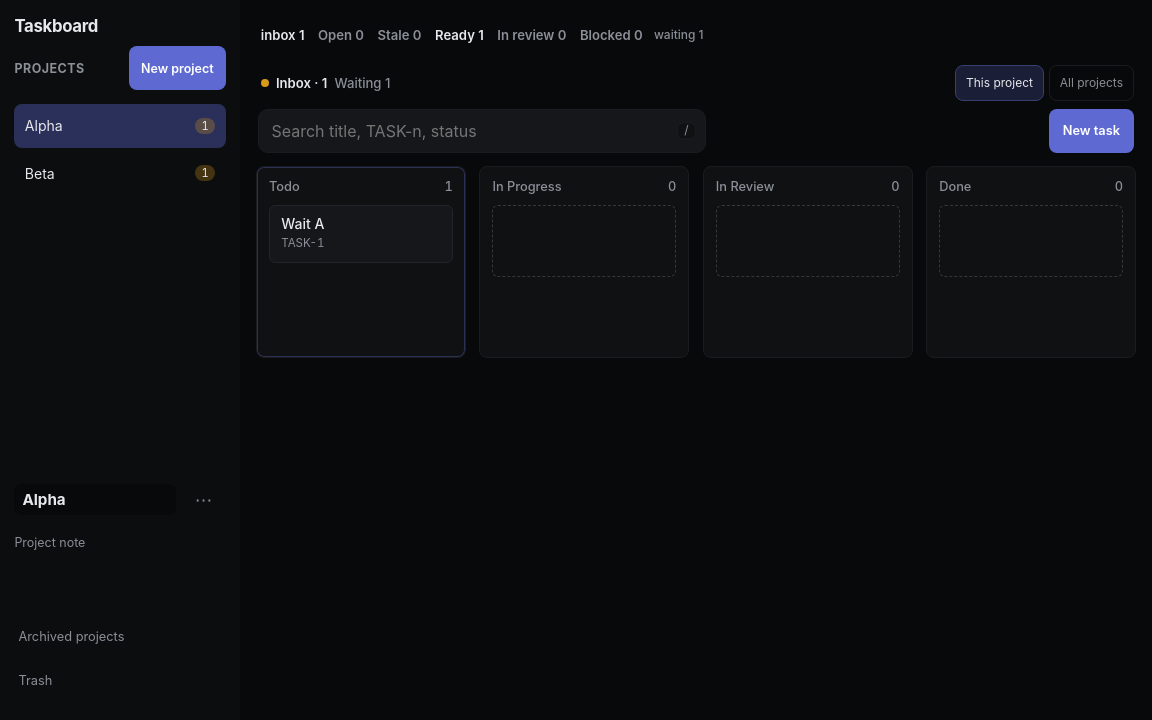
Test: InboxStrip › lists waiting cards and jump selects them
The image size is (1152, 720).
Step 1. Click the button "Alpha 1" → (120, 126), box x1=14 y1=104 x2=226 y2=148
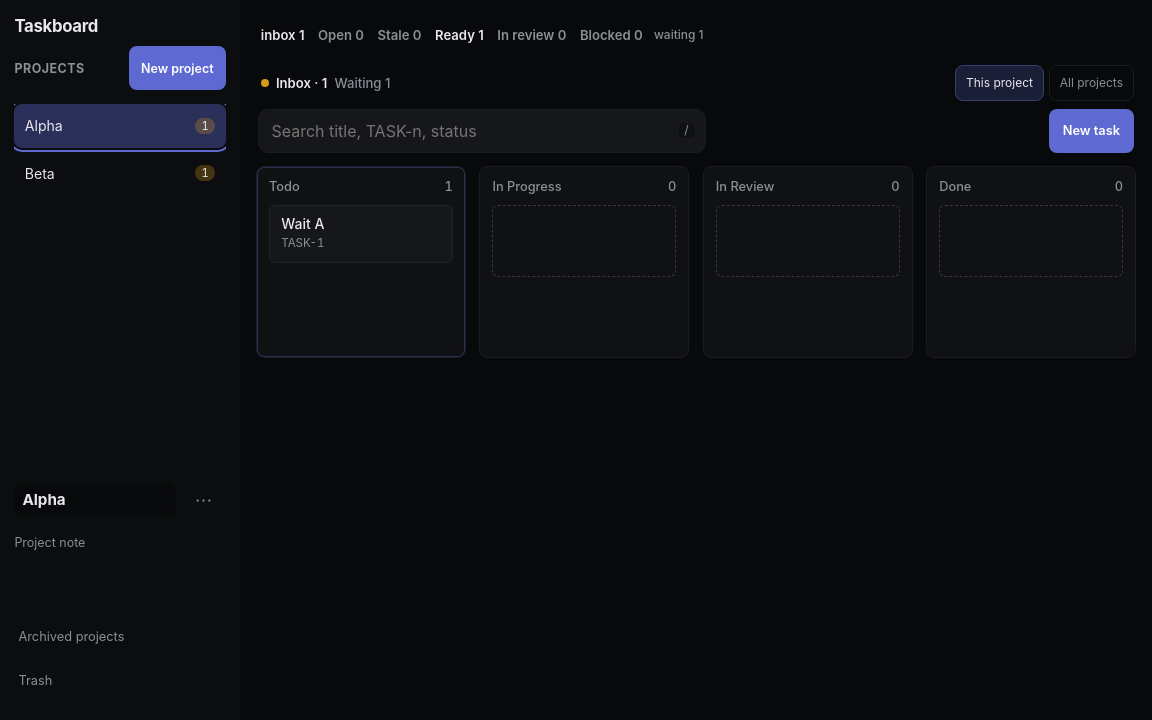
Step 2. Click the button "Inbox · 1 Waiting 1" → (326, 83), box x1=258 y1=61 x2=393 y2=105
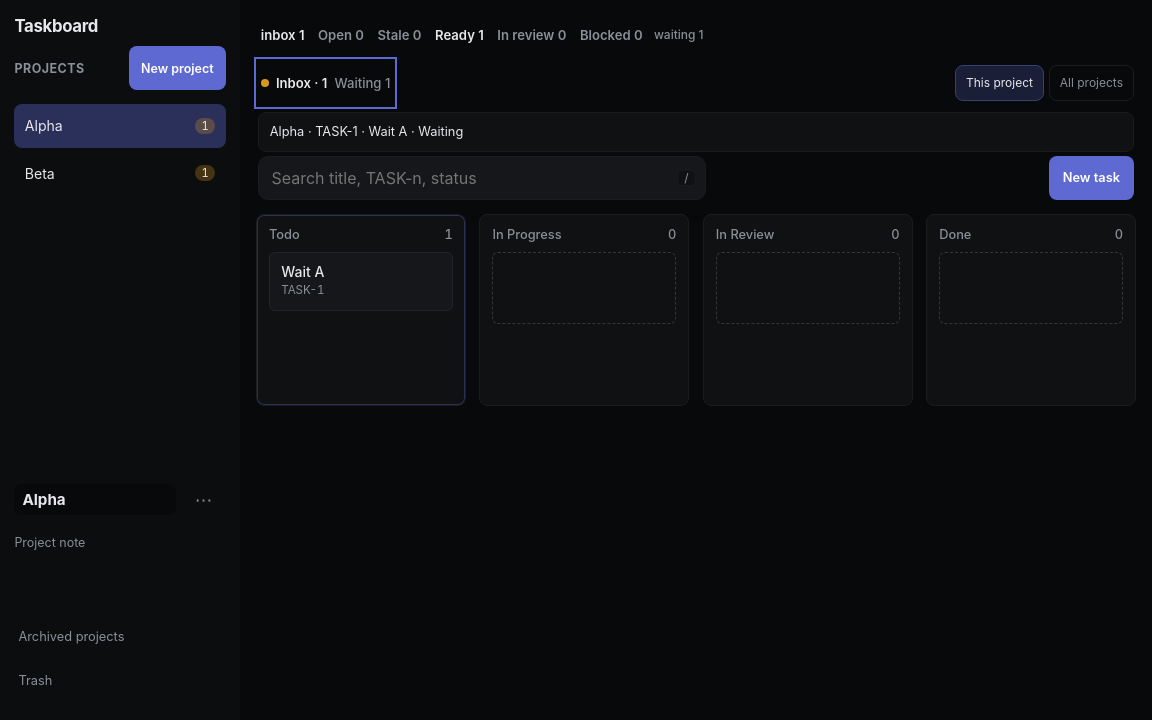
Step 3. Click the button "All projects" → (1091, 83), box x1=1049 y1=65 x2=1134 y2=101
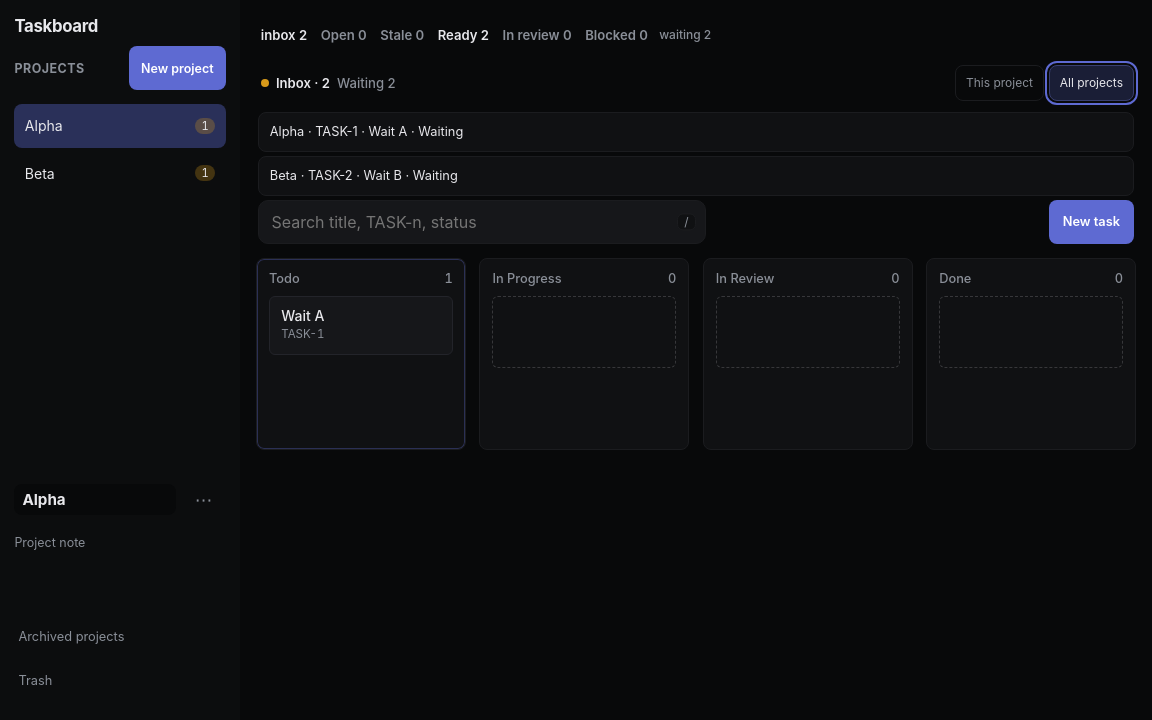
Check: the button "Inbox · 2 Waiting 2" is shown, box x1=258 y1=61 x2=398 y2=105
Step 4. Click the button "Beta · TASK-2 · Wait B · Waiting" → (364, 176), box x1=258 y1=156 x2=1134 y2=196
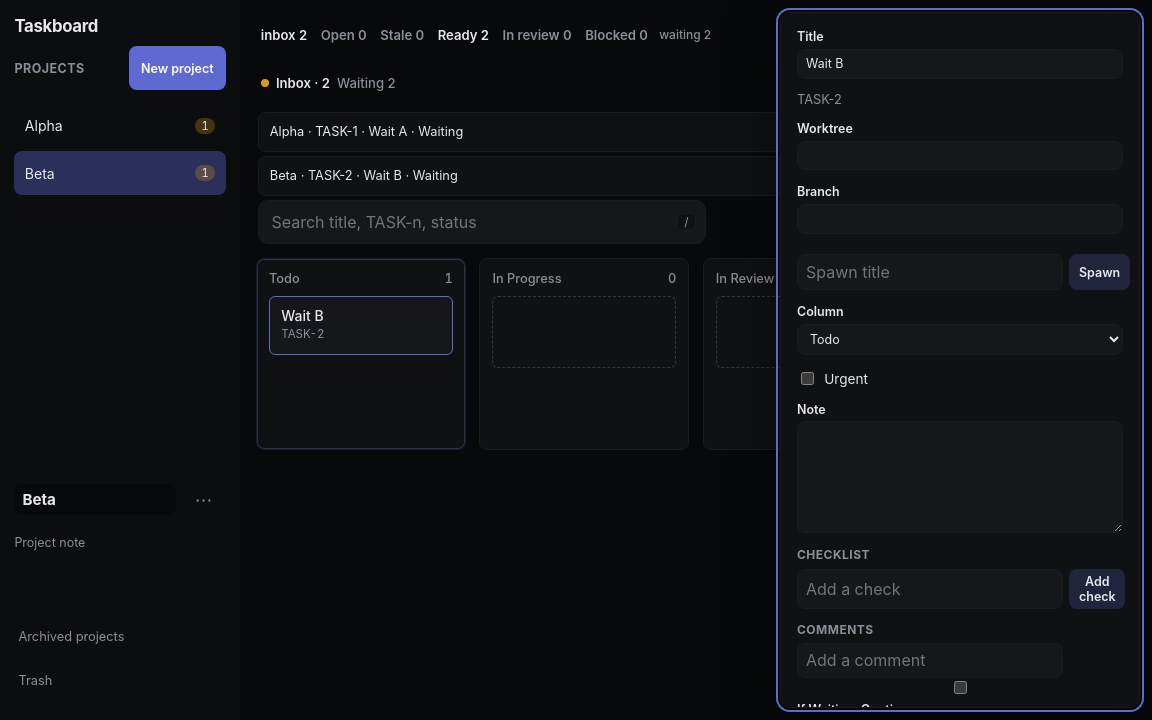
Check: the field showing "Wait B" is shown, box x1=797 y1=49 x2=1123 y2=79
